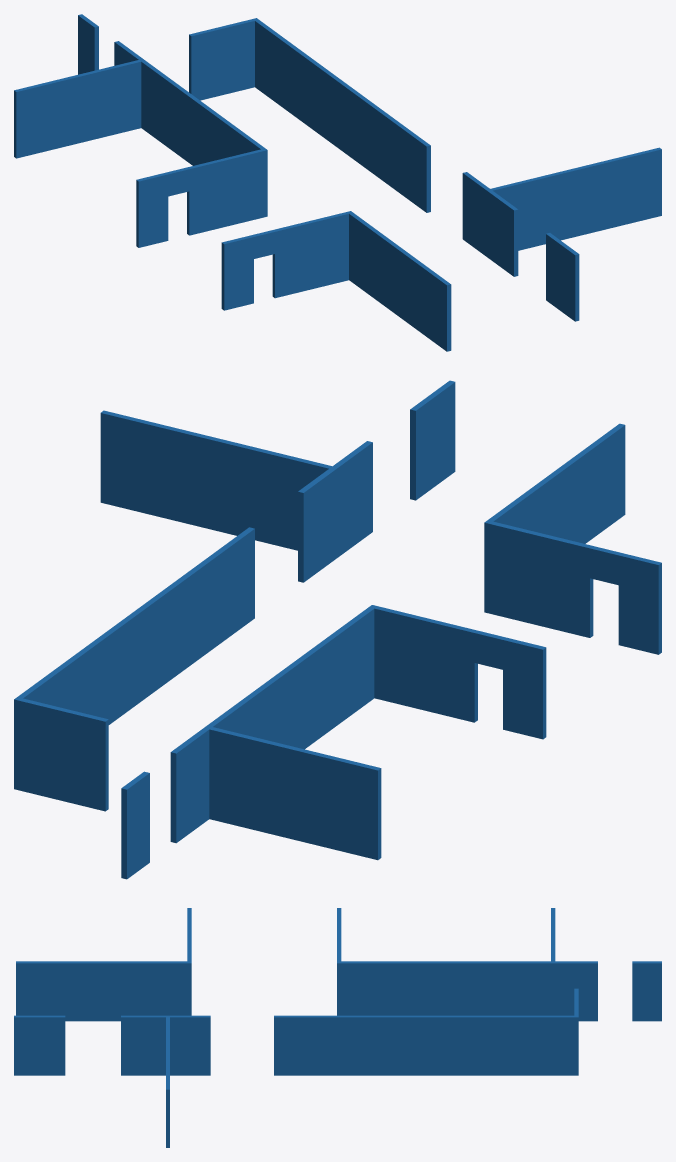
Rendered from wall.fbx.
3 renders of one model, top to bottom at view 1: azimuth 30°, elevation 25°; view 2: azimuth 150°, elevation 25°; view 3: azimuth 270°, elevation 25°, orthographic. The views are drawn at different scales.
Parts seen in each view (by area): view 1: wall 5, wall 3, wall 8, wall 10, wall 9, wall 1, wall 7, wall 6, wall 4, wall 2, wall 11; view 2: wall 3, wall 5, wall 8, wall 7, wall 10, wall 9, wall 1, wall 6, wall 4, wall 2, wall 11; view 3: wall 5, wall 7, wall 1, wall 4, wall 2, wall 11, wall 3, wall 6.
Boxes of the visible parts, x1,y1,x2,y2 form: wall 5: (255,20,430,212); wall 3: (488,147,661,250); wall 8: (14,59,142,158); wall 10: (136,149,265,247); wall 9: (221,211,350,310); wall 1: (349,211,451,351); wall 7: (114,41,267,216); wall 6: (189,18,258,100); wall 4: (462,172,518,276); wall 2: (546,233,579,321); wall 11: (78,14,98,74); wall 3: (100,410,331,550); wall 5: (18,527,254,724); wall 8: (207,726,381,860); wall 7: (170,605,377,843); wall 10: (374,606,546,739); wall 9: (487,521,661,654); wall 1: (484,423,625,613); wall 6: (14,697,108,811); wall 4: (298,441,372,582); wall 2: (410,380,455,500); wall 11: (121,771,149,879); wall 5: (274,1015,574,1075); wall 7: (337,961,597,1021); wall 1: (16,961,191,1021); wall 4: (121,1015,210,1075); wall 2: (14,1015,65,1075); wall 11: (632,961,661,1021); wall 3: (166,1016,169,1147); wall 6: (574,988,578,1075).
Size of the model in its own units: 2010 by 300 by 3029.
